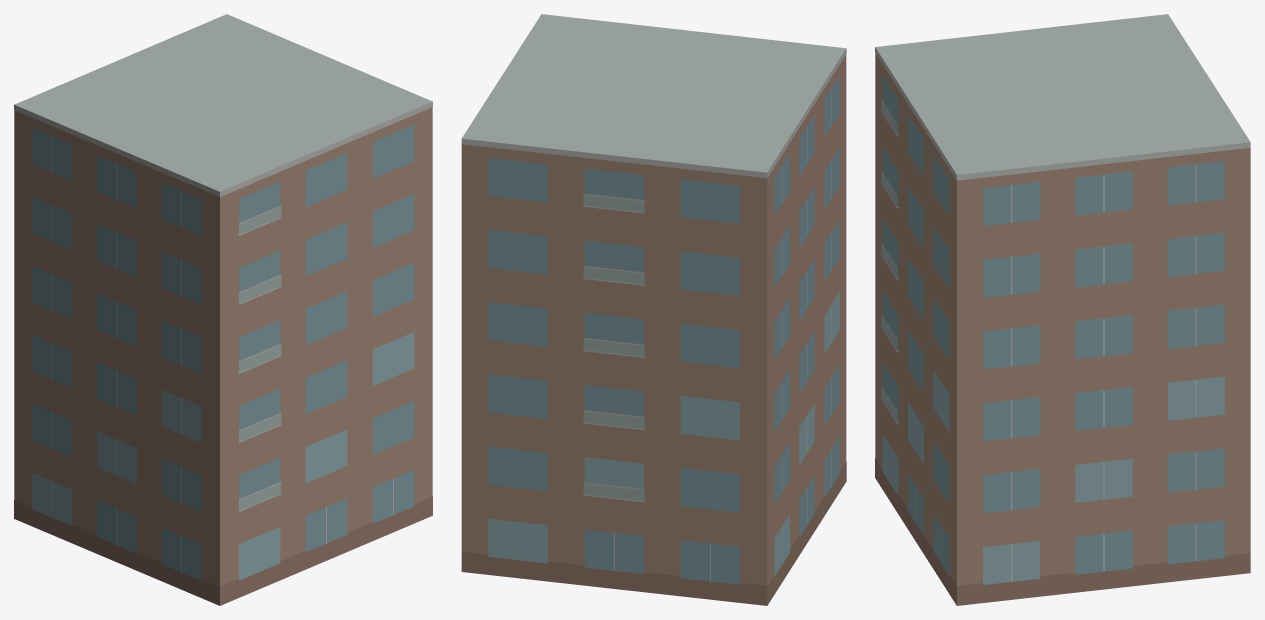
The model's file is survey-upis-32968011.glb.
The picture shows the model from 3 angles, left to right: view 1: azimuth 30°, elevation 25°; view 2: azimuth 150°, elevation 25°; view 3: azimuth 270°, elevation 25°; orthographic projection. The views are drawn at different scales.
Parts seen in each view (by area): view 1: survey-upis-32968011.tmp; view 2: survey-upis-32968011.tmp; view 3: survey-upis-32968011.tmp.
Part boxes in pixels (left/top/right/bottom): survey-upis-32968011.tmp: left=14, top=14, right=432, bottom=605; survey-upis-32968011.tmp: left=461, top=14, right=846, bottom=605; survey-upis-32968011.tmp: left=875, top=14, right=1250, bottom=605.
Size of the model in its own units: 15.12 by 18.85 by 14.9.
